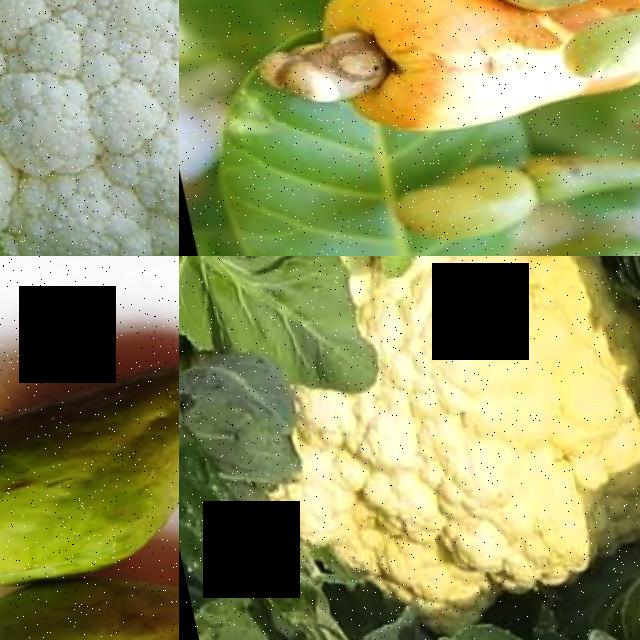cashew: (236, 9, 395, 130), (552, 5, 640, 114), (478, 0, 640, 34)
cauliflower: (179, 256, 640, 640), (0, 0, 179, 256)
chayote: (0, 330, 179, 600), (0, 545, 179, 640)
